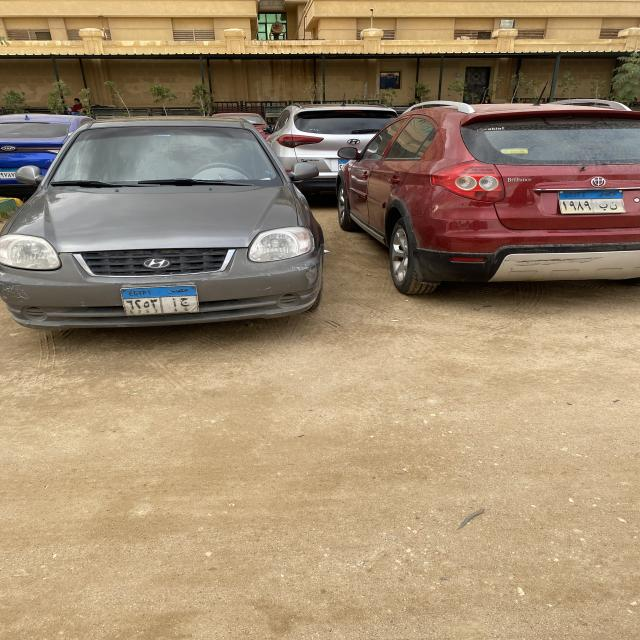License Plate: (120, 284, 200, 317), (557, 190, 626, 214), (338, 159, 350, 171)
